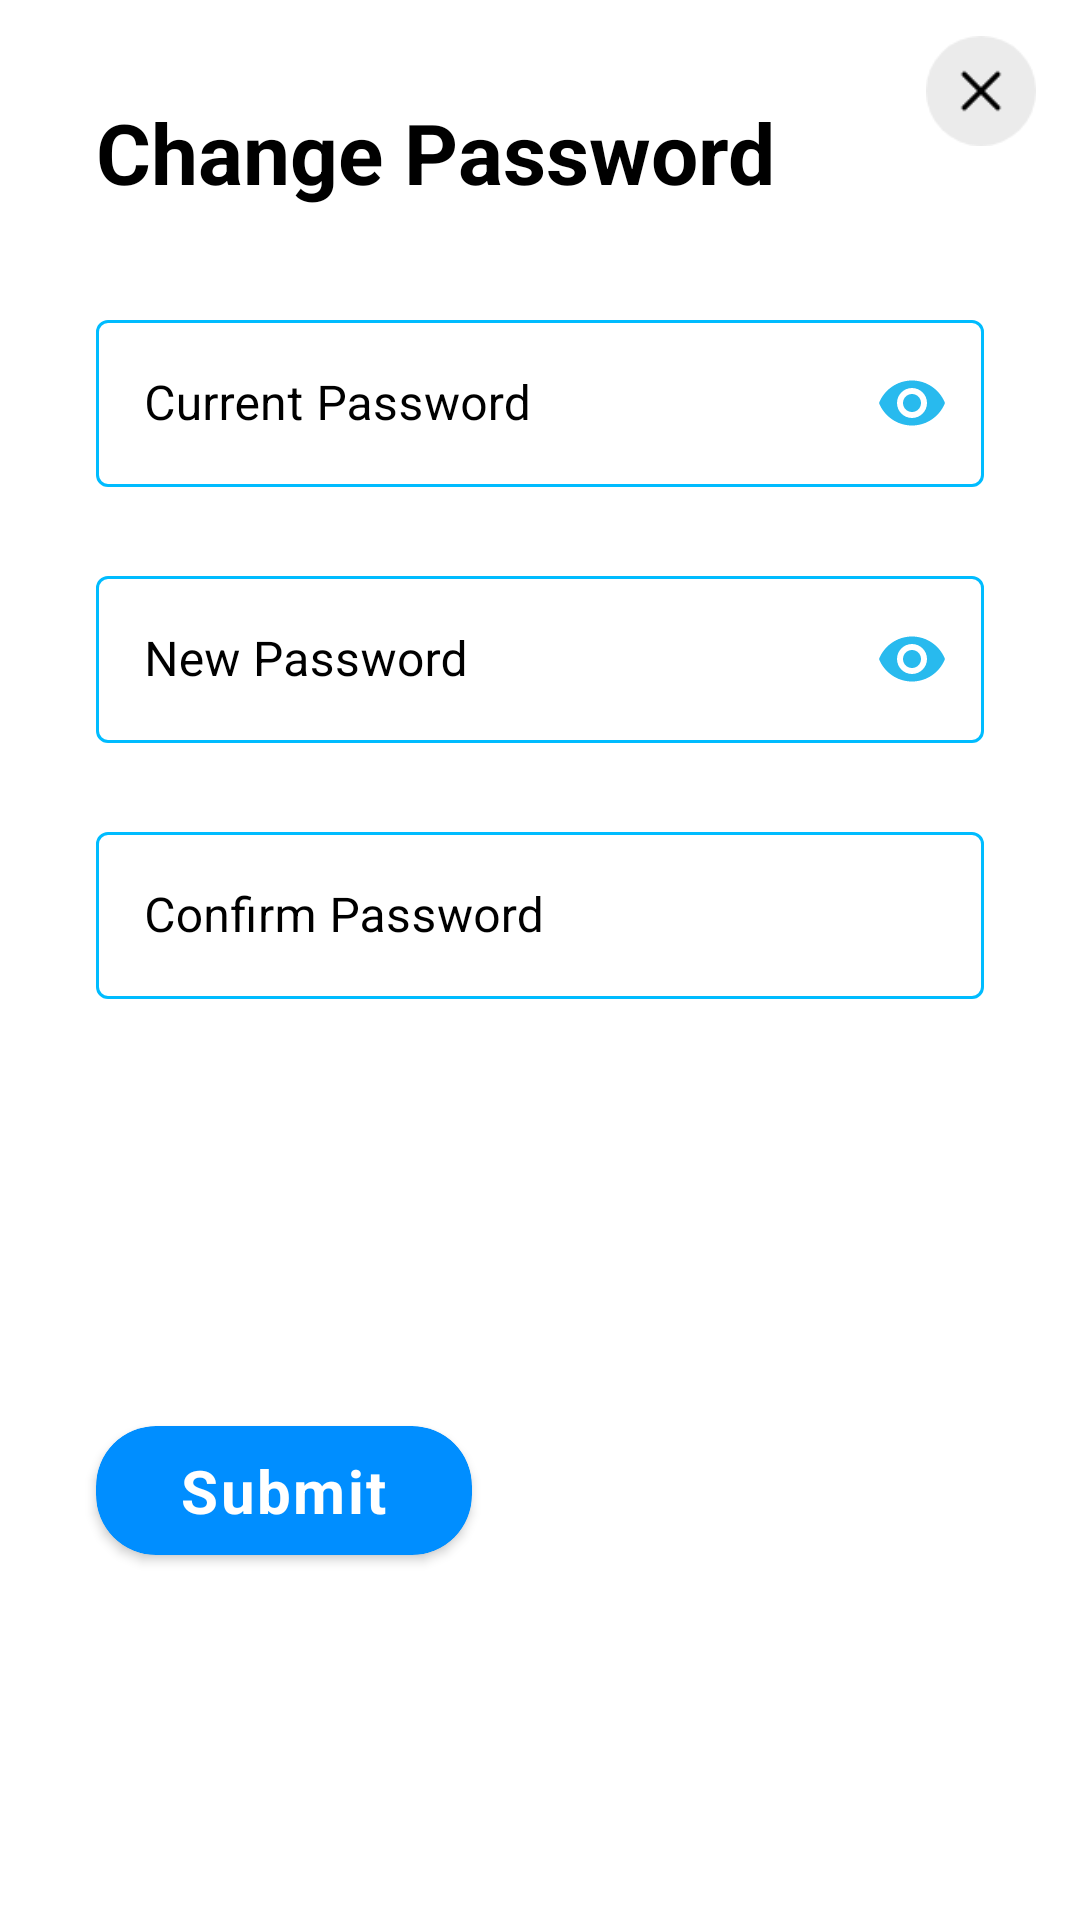

Screen size 1080*1920. Icon name, then its center in pixels as [x,y]:
closearrow: [981,91]
